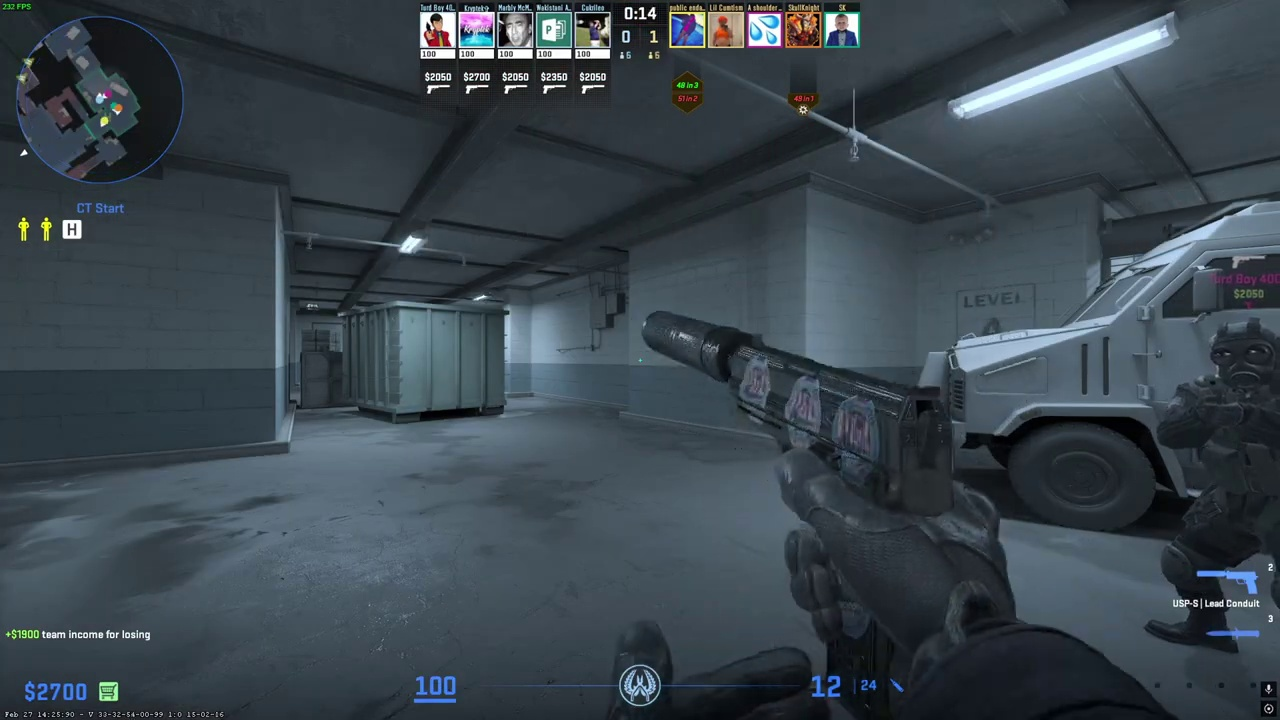CT: (1148, 319, 1280, 651)
